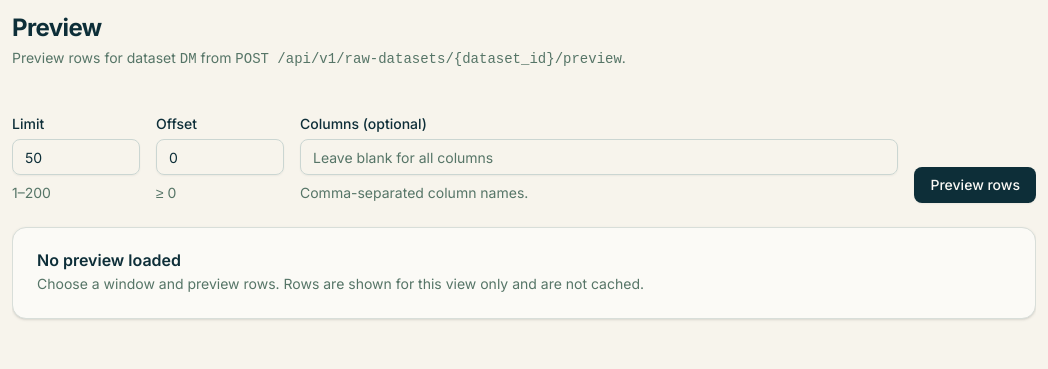
Test: Preview clamping and rendering (Req 5.1, 5.4, 5.5) › shows the zero-row message while the window counts stay visible (R5.5)
Replace the text in the field labelled "Offset" with "500": (220,157) [156, 139, 284, 175]
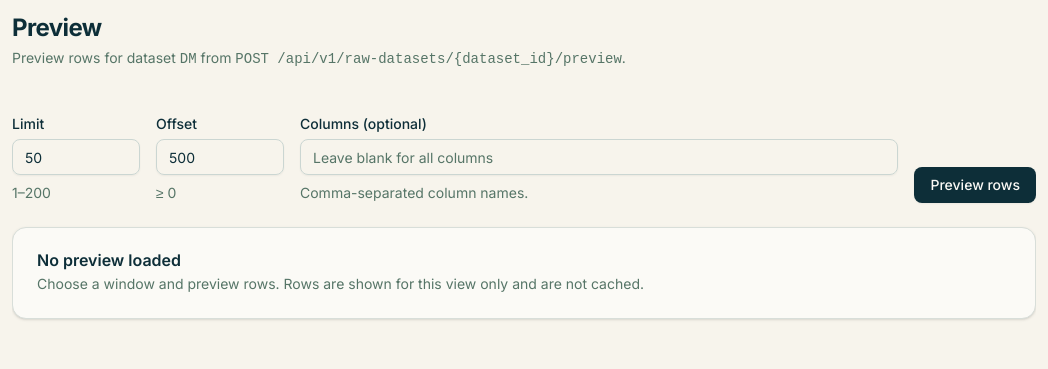
Click the button "Preview rows": (975,185) [914, 167, 1036, 203]
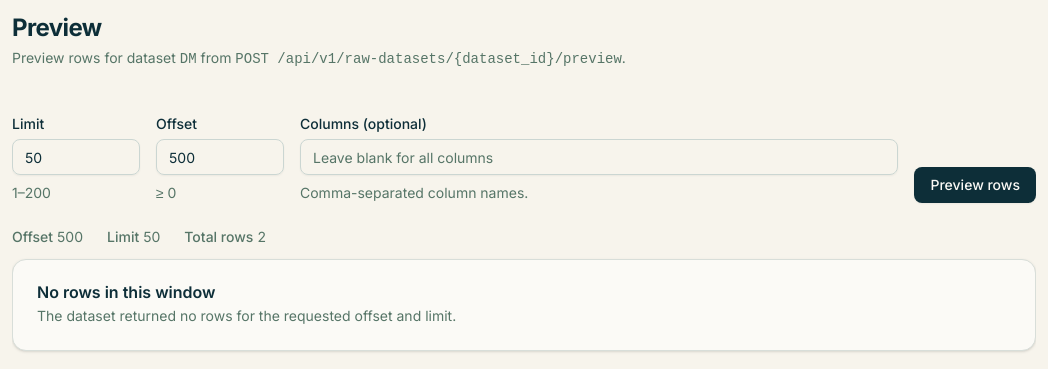
Expected: the text "No rows in this window" is shown, [37, 282, 216, 302]
Expected: the text "500" is shown, [57, 227, 83, 247]
Expected: the text "2" is shown, [257, 227, 266, 247]
